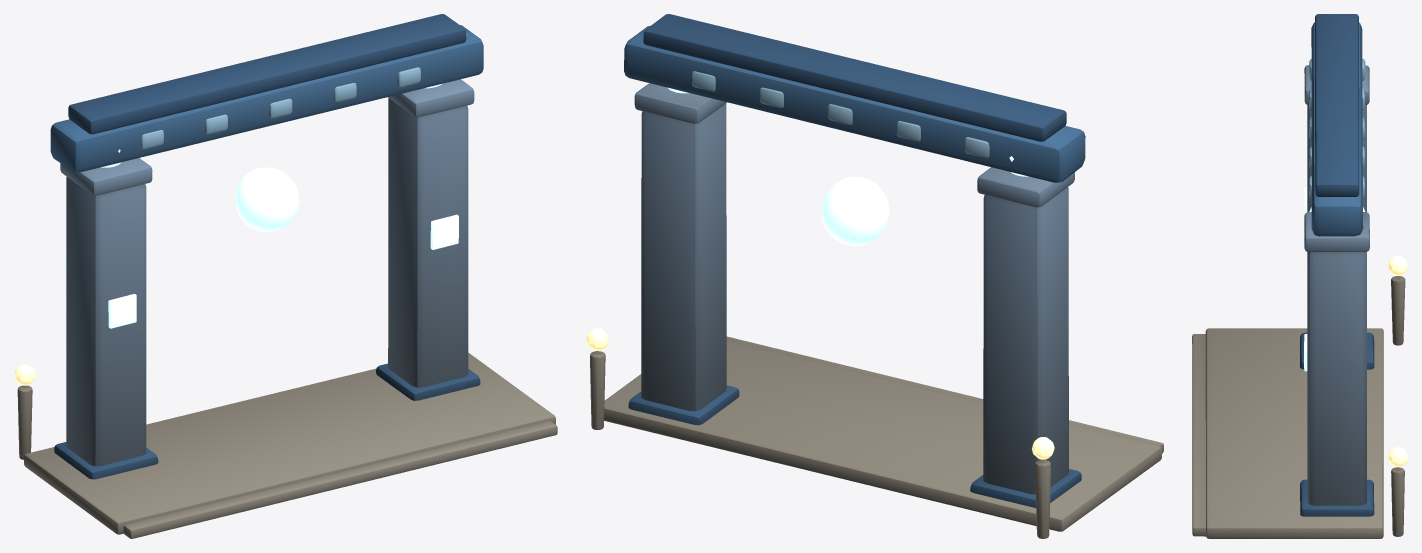
3 views of the same model, side by side, from view 1: azimuth 30°, elevation 25°; view 2: azimuth 150°, elevation 25°; view 3: azimuth 270°, elevation 25° (orthographic). The views are drawn at different scales.
Visible parts, largest first — view 1: gate_6e493787; view 2: gate_6e493787; view 3: gate_6e493787.
Part boxes in pixels (box(x1,y1,x2,y2)): gate_6e493787: box(14, 14, 557, 538); gate_6e493787: box(586, 14, 1163, 538); gate_6e493787: box(1192, 14, 1407, 538).
Size of the model in its own units: 5.61 by 4.45 by 2.55.
